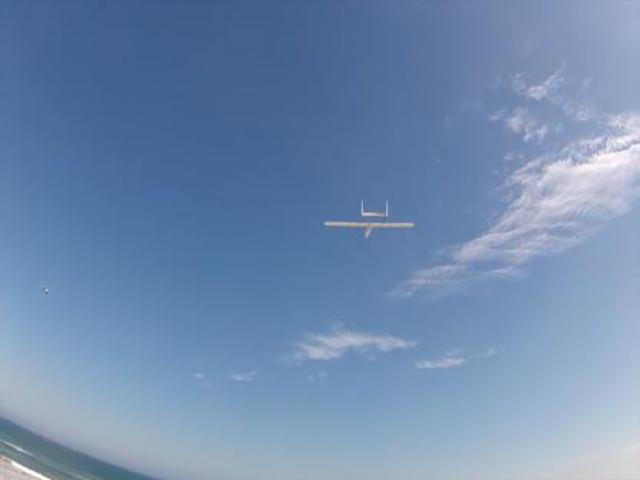uav: (318, 196, 419, 242)
